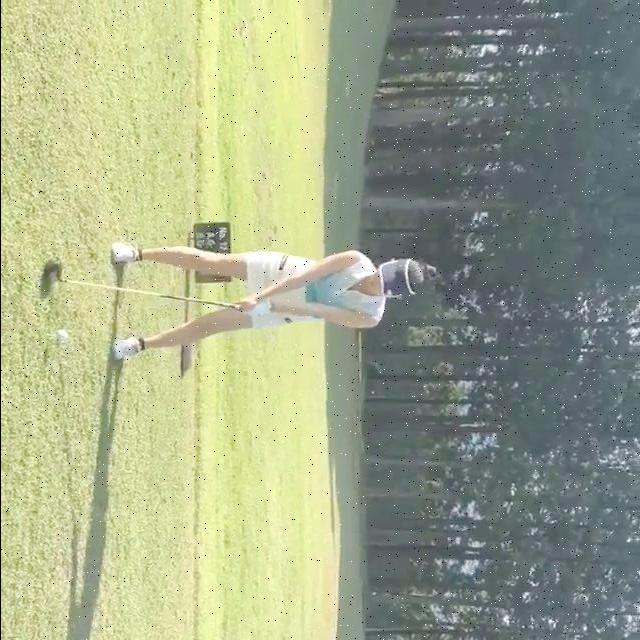golf ball: (57, 330, 67, 341)
golf club-handle: (45, 258, 241, 310)
golf club-head: (46, 258, 61, 282)
